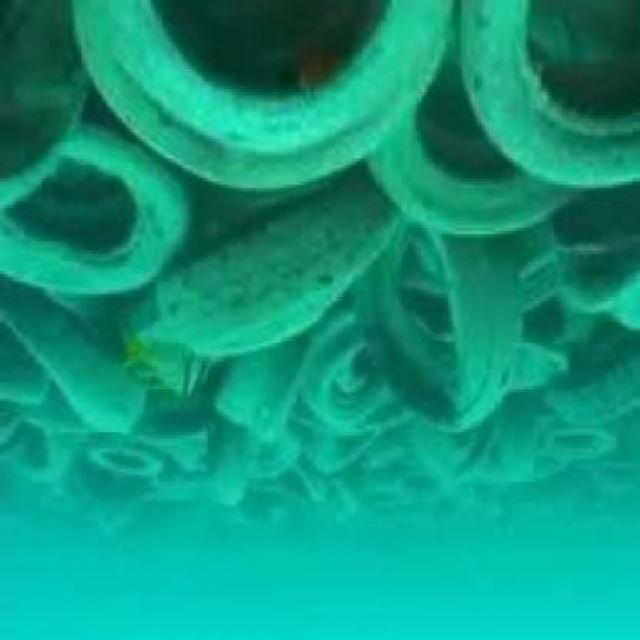tire: (97, 3, 446, 182), (138, 208, 378, 429), (310, 178, 504, 432), (390, 42, 584, 261), (444, 3, 638, 188), (2, 115, 195, 300)
